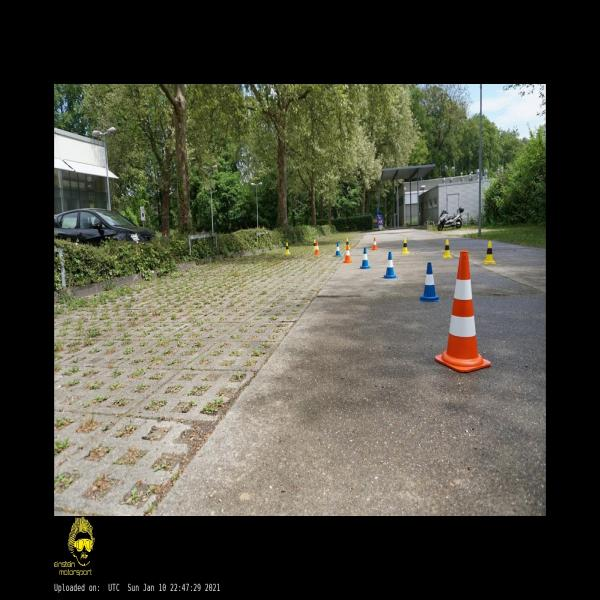blue_cone: (419, 262, 440, 302), (382, 252, 397, 278), (360, 247, 370, 269), (334, 242, 341, 257)
large_orange_cone: (434, 251, 491, 373)
orange_cone: (343, 245, 352, 263), (314, 241, 320, 255), (371, 238, 378, 250)
yellow_cone: (482, 241, 496, 264), (442, 239, 452, 258), (401, 238, 410, 254), (284, 242, 290, 255), (344, 238, 351, 249), (312, 238, 316, 250)
